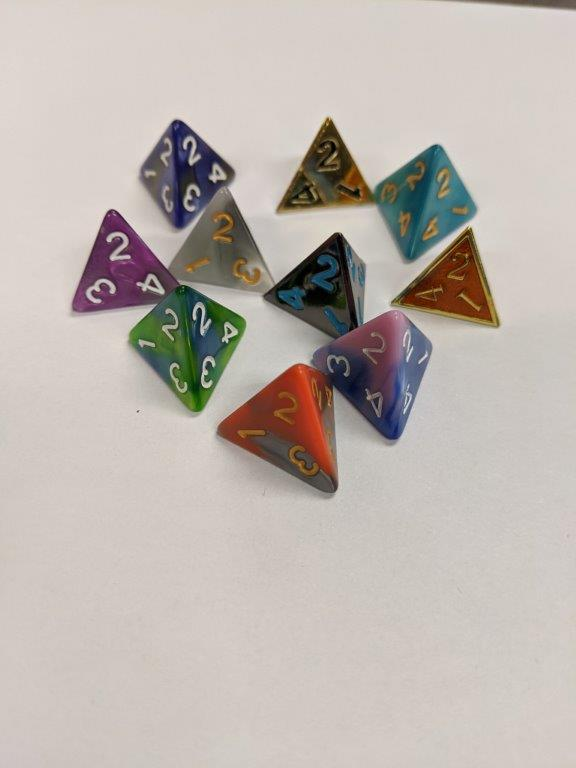d4-2: (213, 357, 342, 503), (309, 308, 436, 447), (129, 282, 248, 415), (365, 137, 486, 262), (391, 224, 504, 332), (256, 221, 361, 336), (70, 208, 179, 314), (168, 187, 274, 295), (132, 116, 238, 222), (272, 113, 376, 213)
